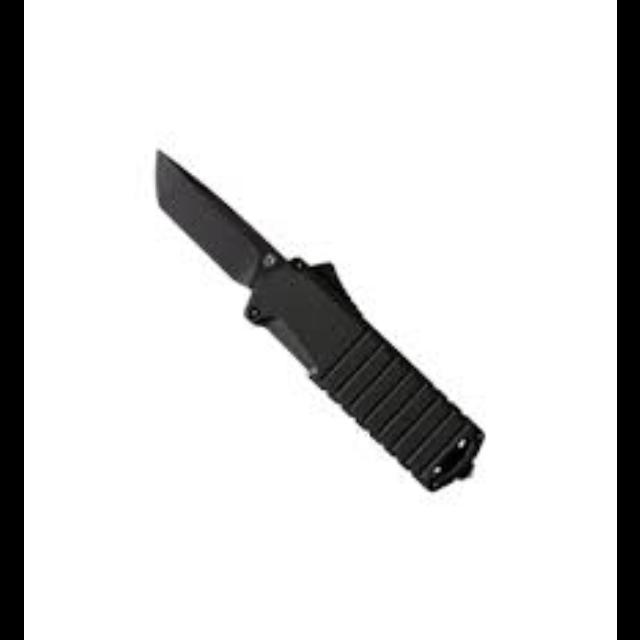Knife: (152, 146, 484, 492)
